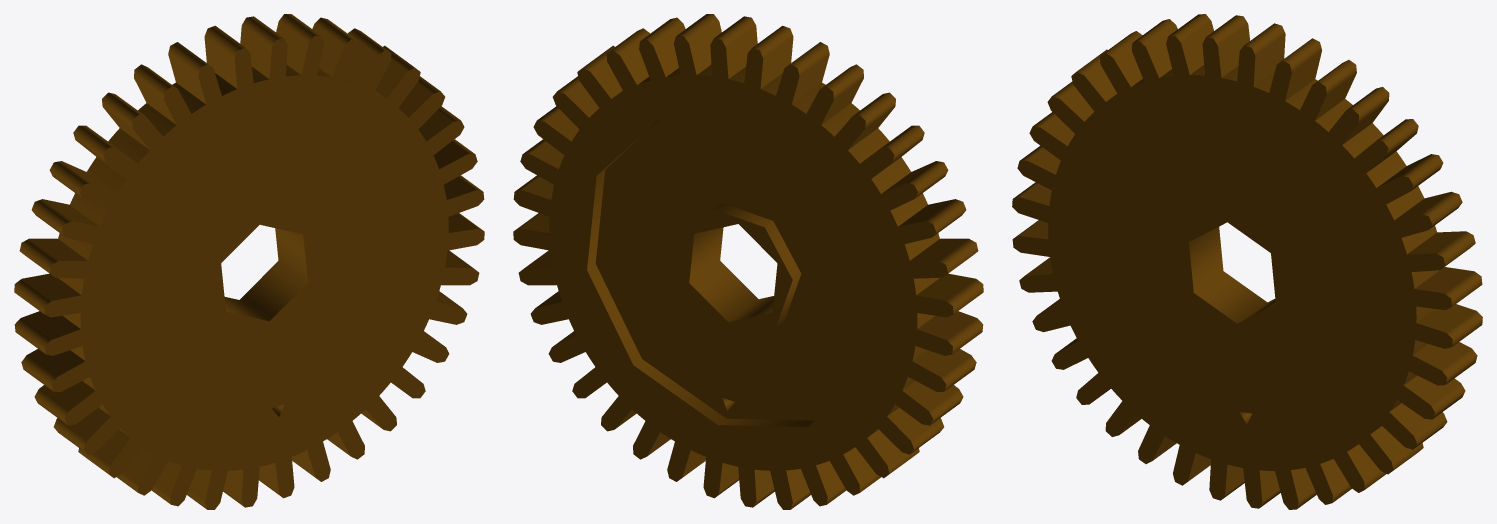
File: Roue Came Gdetente_Limacons_Mouvement.obj
3 views of the same model, side by side, from view 1: azimuth 30°, elevation 25°; view 2: azimuth 150°, elevation 25°; view 3: azimuth 330°, elevation 25° (orthographic).
Visible parts, largest first — view 1: Face_2, Face_152, Face_8, Face_46, Face_42, Face_148, Face_50, Face_12, Face_144, Face_54, Face_38, Face_27 (+25 smaller); view 2: Face_1, Face_4, Face_6, Face_3, Face_152, Face_5, Face_8, Face_46, Face_42, Face_148, Face_50, Face_12 (+29 smaller); view 3: Face_2, Face_152, Face_82, Face_44, Face_48, Face_86, Face_40, Face_78, Face_90, Face_52, Face_36, Face_63 (+25 smaller).
Boxes of the visible parts, box(x1,y1,x2,y2) form: Face_2: box(44, 36, 484, 509); Face_152: box(224, 228, 307, 321); Face_8: box(21, 311, 80, 339); Face_46: box(240, 26, 271, 78); Face_42: box(204, 37, 237, 88); Face_148: box(27, 349, 85, 376); Face_50: box(276, 21, 308, 74); Face_12: box(22, 273, 81, 300); Face_144: box(39, 381, 95, 410); Face_54: box(312, 24, 344, 76); Face_38: box(168, 54, 205, 103); Face_27: box(73, 125, 115, 161); Face_1: box(513, 36, 953, 509); Face_4: box(595, 119, 879, 420); Face_6: box(676, 209, 792, 333); Face_3: box(587, 119, 814, 426); Face_152: box(689, 227, 773, 321); Face_5: box(713, 203, 801, 326); Face_8: box(917, 311, 976, 339); Face_46: box(726, 26, 757, 78); Face_42: box(760, 37, 793, 88); Face_148: box(912, 349, 970, 376); Face_50: box(689, 21, 721, 74); Face_12: box(916, 273, 975, 300); Face_2: box(1012, 36, 1452, 509); Face_152: box(1189, 227, 1275, 323); Face_82: box(1417, 304, 1475, 332); Face_44: box(1218, 24, 1249, 77); Face_48: box(1253, 34, 1285, 86); Face_86: box(1413, 342, 1471, 370); Face_40: box(1181, 21, 1213, 74); Face_78: box(1415, 267, 1473, 293); Face_90: box(1404, 375, 1460, 404); Face_52: box(1285, 51, 1321, 100); Face_36: box(1146, 25, 1177, 77); Face_63: box(1376, 119, 1418, 154).
Bounding box in the file's own units: 0.0294 × 0.0294 × 0.0035.
